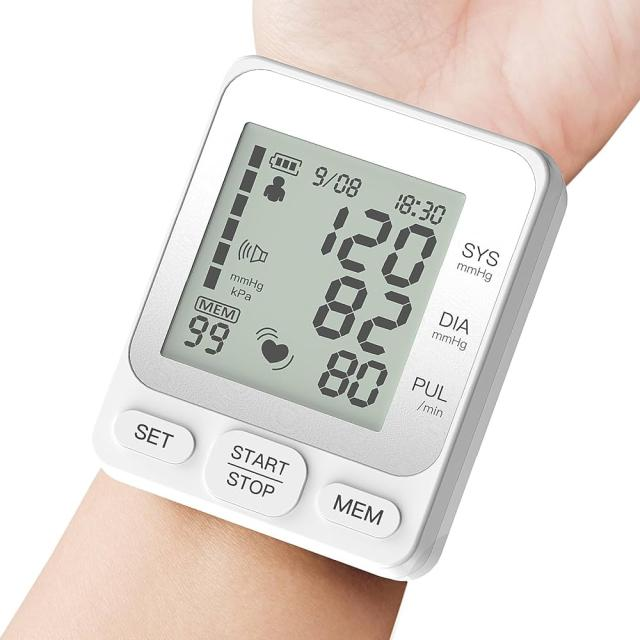dia: (291, 257, 418, 363)
pul: (297, 335, 399, 422)
ssd: (157, 116, 466, 434)
sys: (301, 190, 448, 295)
